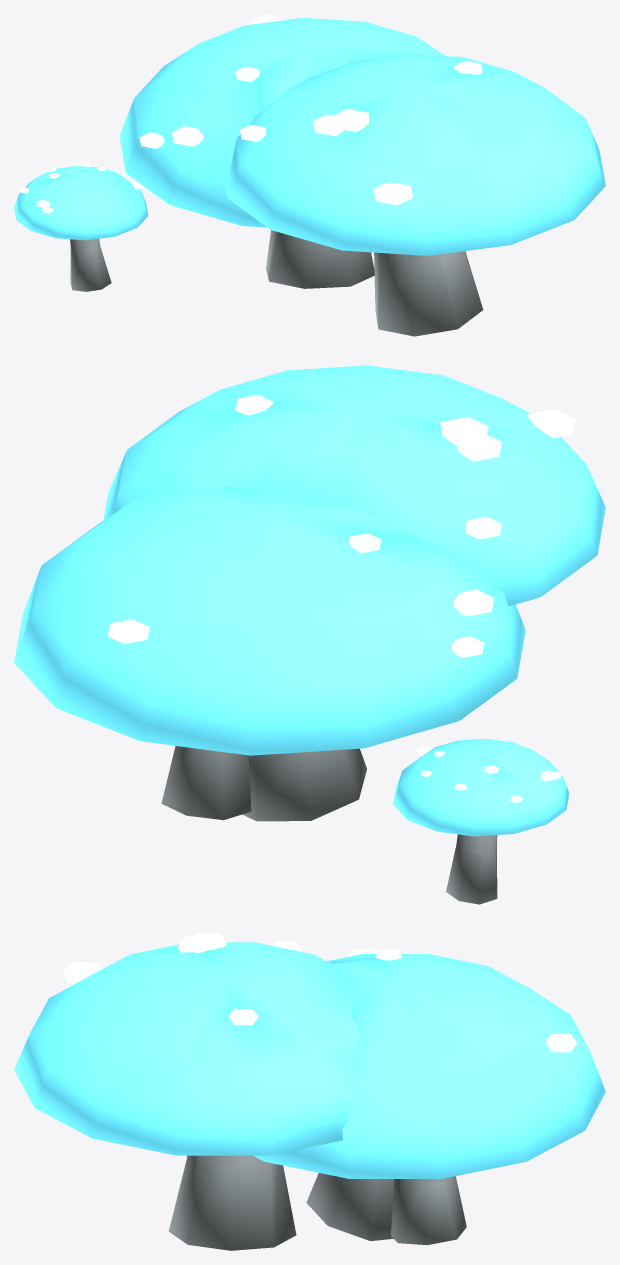
File: obj_deco_hongos.glb
3 views of the same model, one above another, from view 1: azimuth 30°, elevation 25°; view 2: azimuth 150°, elevation 25°; view 3: azimuth 270°, elevation 25° (orthographic). The views are drawn at different scales.
Parts seen in each view (by area): view 1: propforge-libre-deco_hongos; view 2: propforge-libre-deco_hongos; view 3: propforge-libre-deco_hongos.
Part boxes in pixels (box(x1,y1,x2,y2)): propforge-libre-deco_hongos: box(14, 14, 605, 336); propforge-libre-deco_hongos: box(14, 365, 605, 904); propforge-libre-deco_hongos: box(14, 933, 605, 1250).
Bounding box in the file's own units: 0.4537 × 0.2374 × 0.4986.
